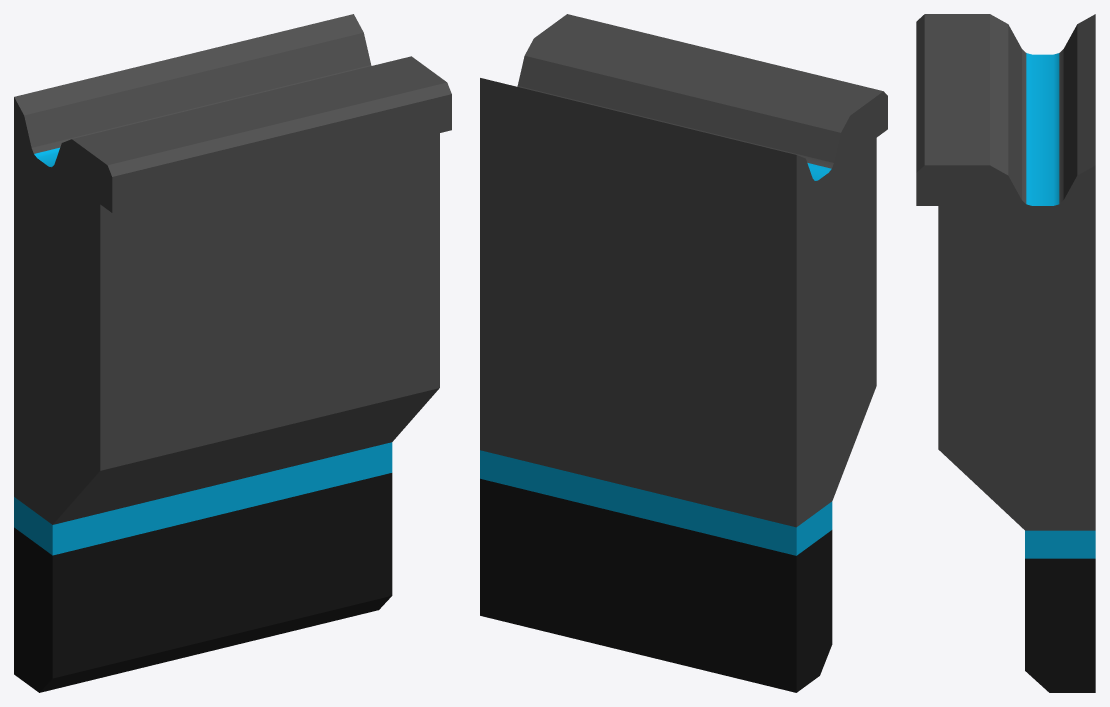
Rendered from Floor_Edge_01x2.fbx.
The picture shows the model from 3 angles, left to right: view 1: azimuth 30°, elevation 25°; view 2: azimuth 150°, elevation 25°; view 3: azimuth 270°, elevation 25°; orthographic projection. The views are drawn at different scales.
Visible parts, largest first — view 1: Floor_Edge_01x2; view 2: Floor_Edge_01x2; view 3: Floor_Edge_01x2.
Part boxes in pixels (box(x1,y1,x2,y2)): Floor_Edge_01x2: box(14, 14, 451, 692); Floor_Edge_01x2: box(480, 14, 887, 692); Floor_Edge_01x2: box(916, 14, 1095, 692).
Bounding box in the file's own units: 400 × 650 × 200.
